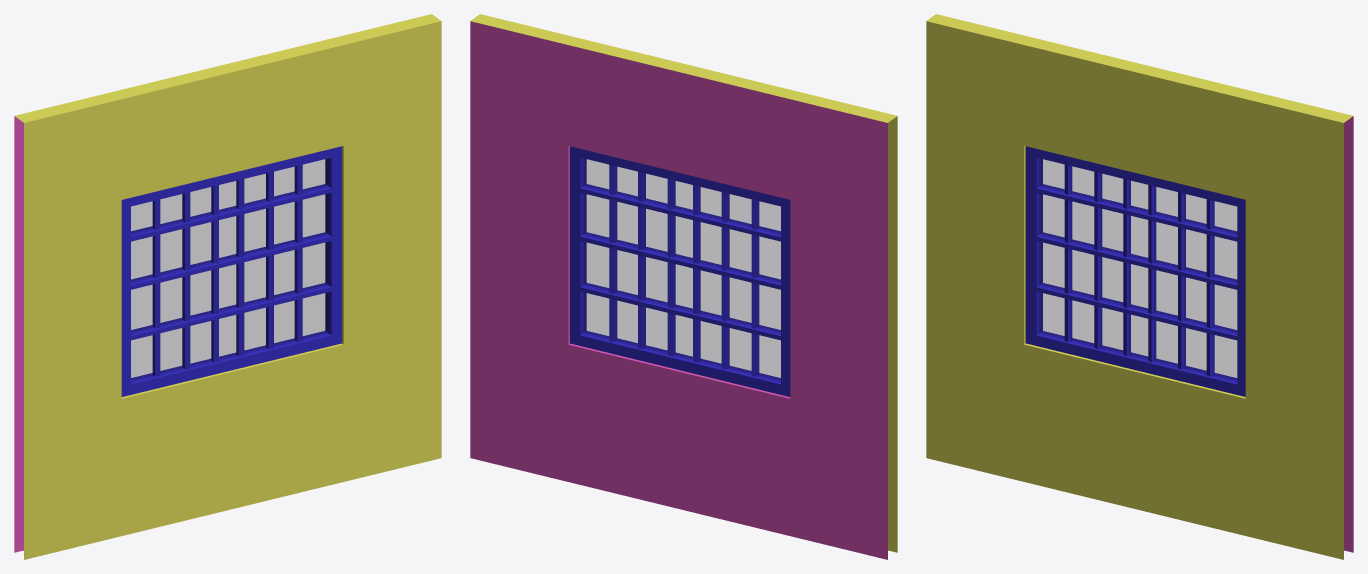
The model's file is SM_wall5.fbx.
3 views of the same model, side by side, from view 1: azimuth 30°, elevation 25°; view 2: azimuth 150°, elevation 25°; view 3: azimuth 330°, elevation 25° (orthographic).
Parts seen in each view (by area): view 1: wall5; view 2: wall5; view 3: wall5.
Part boxes in pixels (x1=…): wall5: x1=14, y1=14, x2=441, y2=559; wall5: x1=470, y1=14, x2=897, y2=559; wall5: x1=926, y1=14, x2=1353, y2=559.
Bounding box in the file's own units: 300 × 300 × 12.17.
